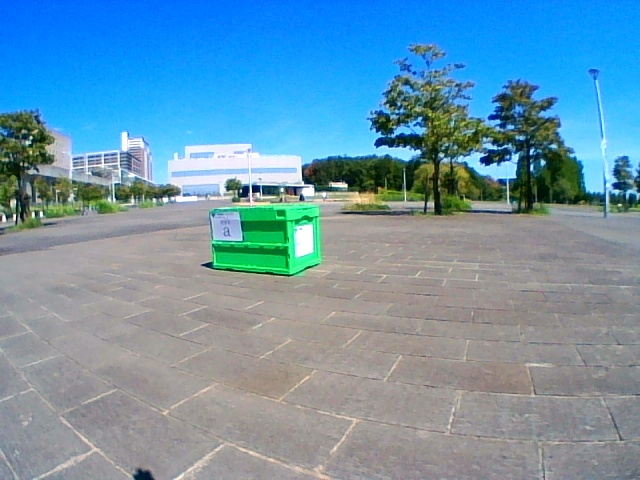green_box: (209, 204, 320, 275)
tag_a: (214, 213, 240, 240)
